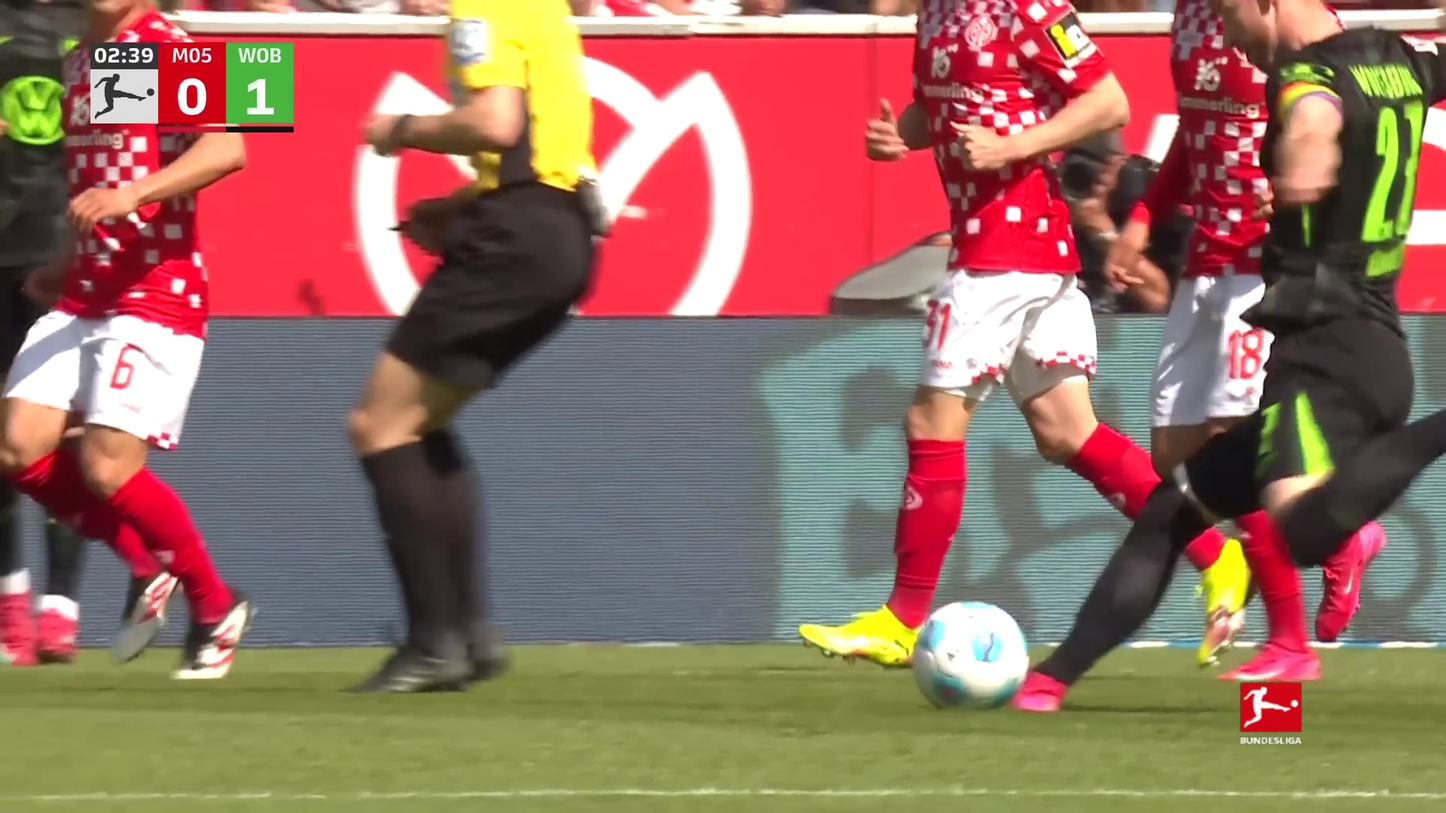ball: (898, 603, 1031, 711)
player: (797, 0, 1266, 669), (1015, 0, 1437, 715), (1103, 0, 1389, 681), (0, 0, 260, 680)
referee: (342, 0, 616, 695)
